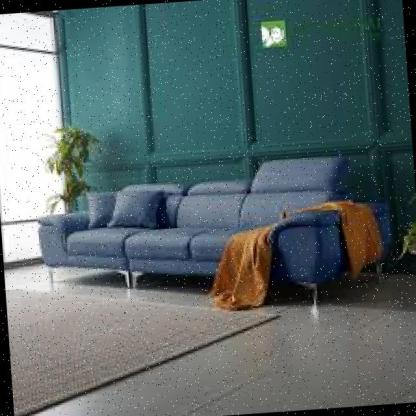Sofa: (26, 140, 406, 333)
